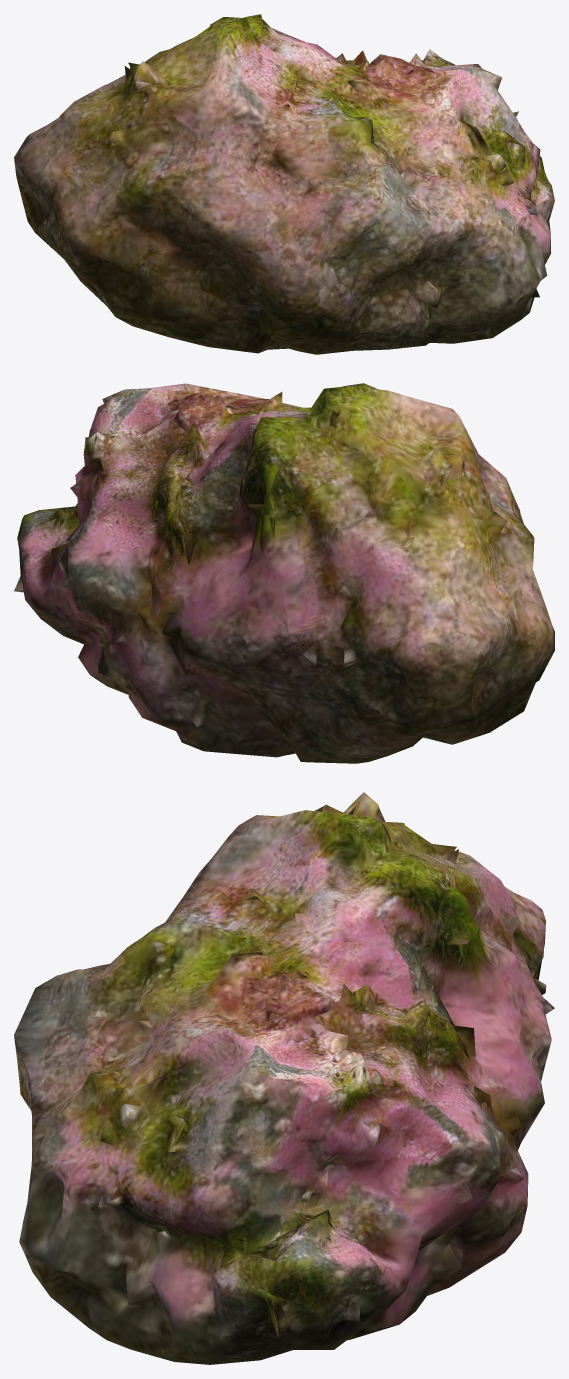
The model's file is rockA.glb.
3 views of the same model, one above another, from view 1: azimuth 30°, elevation 25°; view 2: azimuth 150°, elevation 25°; view 3: azimuth 270°, elevation 25° (orthographic). The views are drawn at different scales.
Parts seen in each view (by area): view 1: tripo_node_96f08a0d-c6a9-44e5-aa39-541a357290ed; view 2: tripo_node_96f08a0d-c6a9-44e5-aa39-541a357290ed; view 3: tripo_node_96f08a0d-c6a9-44e5-aa39-541a357290ed.
Part boxes in pixels (x1=…): tripo_node_96f08a0d-c6a9-44e5-aa39-541a357290ed: x1=14, y1=14, x2=554, y2=354; tripo_node_96f08a0d-c6a9-44e5-aa39-541a357290ed: x1=14, y1=383, x2=554, y2=763; tripo_node_96f08a0d-c6a9-44e5-aa39-541a357290ed: x1=14, y1=792, x2=554, y2=1364.
Size of the model in its own units: 1 by 0.6062 by 0.7354.
Materials: 1 (1 with a texture image).
